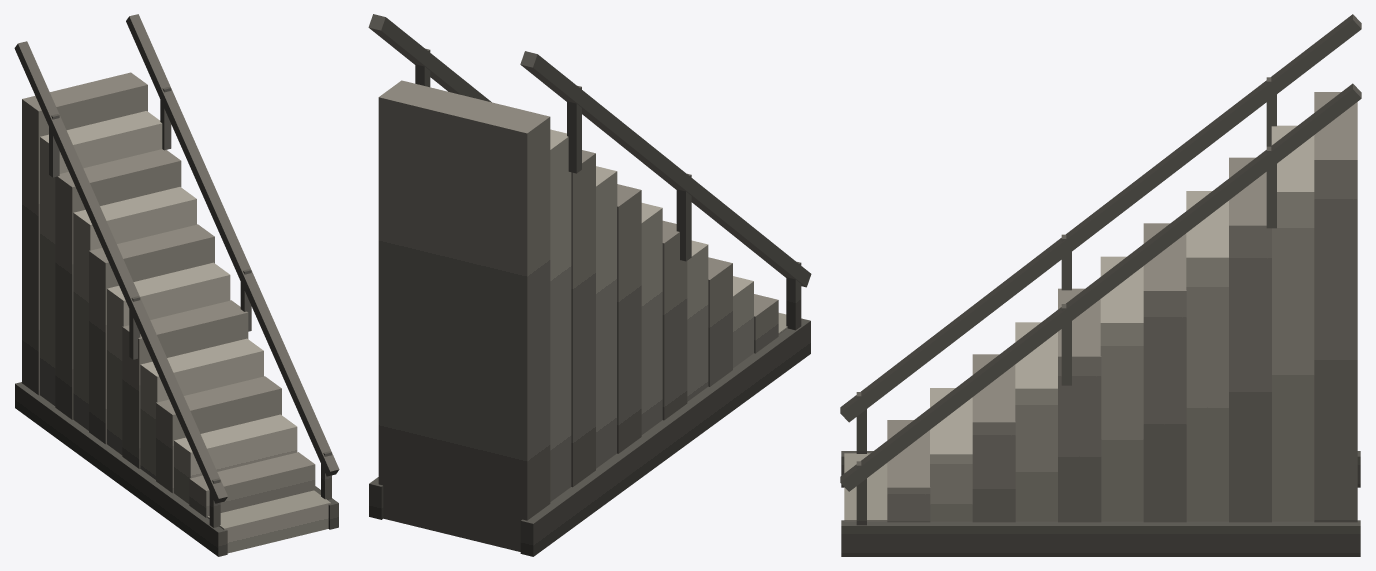
Rendered from slope_stone.glb.
3 renders of one model, left to right at view 1: azimuth 30°, elevation 25°; view 2: azimuth 150°, elevation 25°; view 3: azimuth 270°, elevation 25°, orthographic. The views are drawn at different scales.
Size of the model in its own units: 1.04 by 3.02 by 3.05.
1 material, 1 textured.
